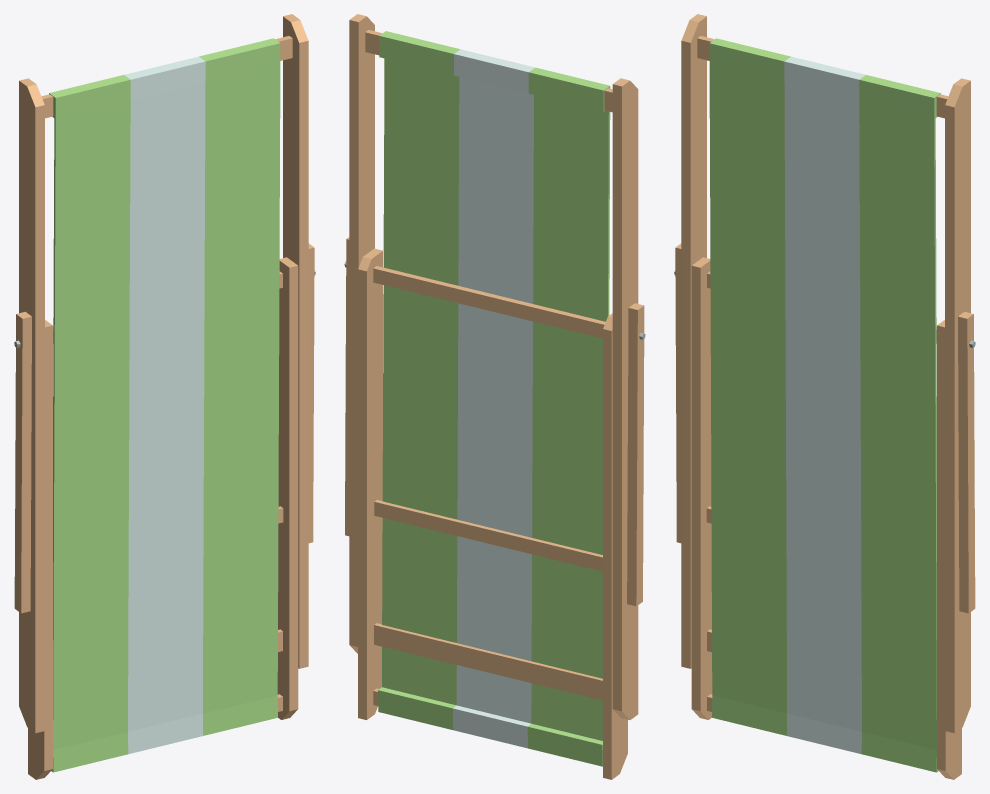
Rendered from ChaiseLongue_B_Closed.fbx.
The picture shows the model from 3 angles, left to right: view 1: azimuth 30°, elevation 25°; view 2: azimuth 150°, elevation 25°; view 3: azimuth 330°, elevation 25°; orthographic projection.
Parts seen in each view (by area): view 1: ChaiseLongue_B_Closed; view 2: ChaiseLongue_B_Closed; view 3: ChaiseLongue_B_Closed.
Boxes of the visible parts, x1,y1,x2,y2 form: ChaiseLongue_B_Closed: (14,14,315,779); ChaiseLongue_B_Closed: (344,14,645,779); ChaiseLongue_B_Closed: (674,14,975,779).
Size of the model in its own units: 63.32 by 141 by 6.29.
